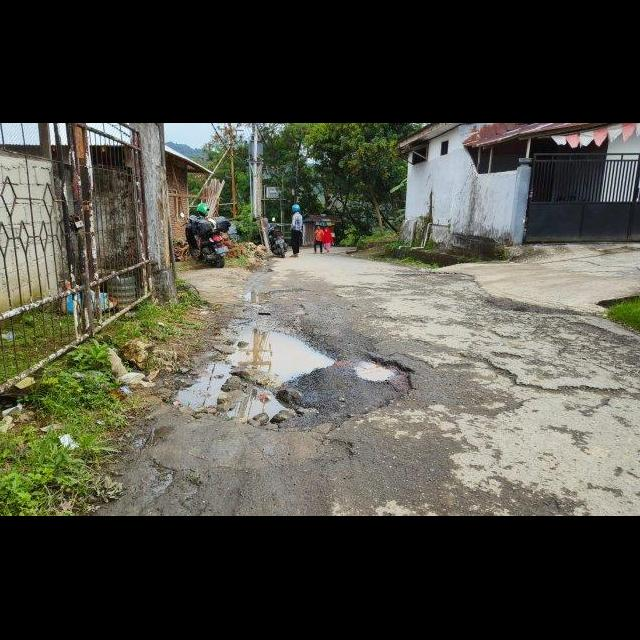lubang_kecil: (193, 314, 414, 455), (236, 277, 316, 312), (392, 268, 449, 284)
